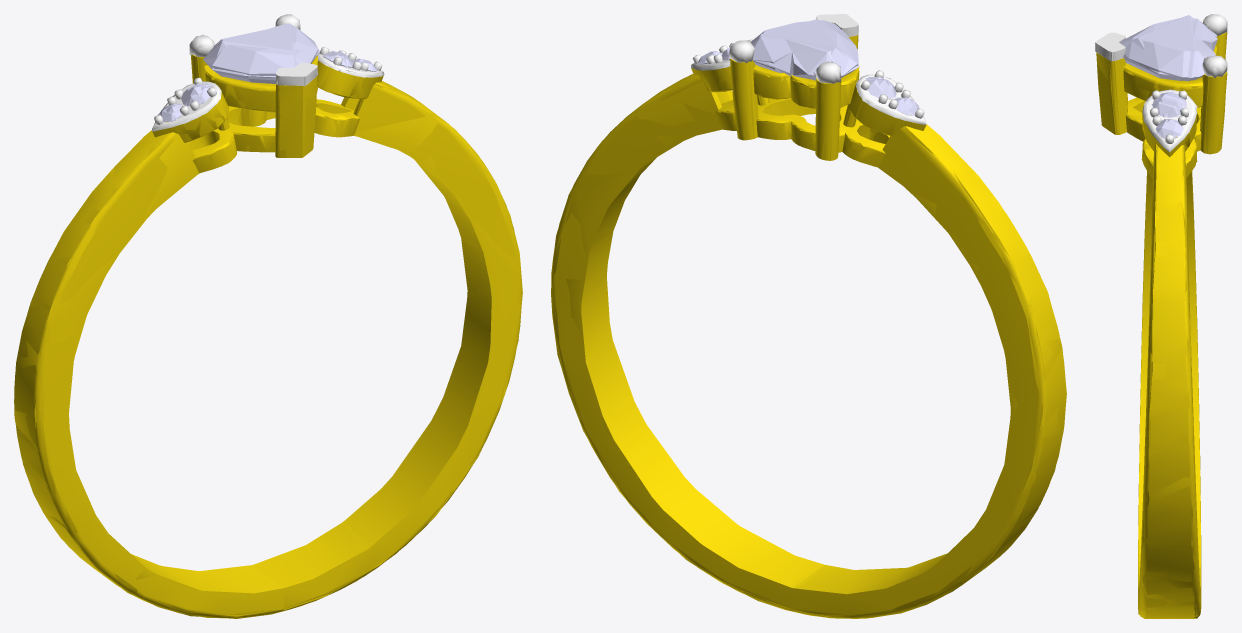
File: DLR-D000609564.glb
The picture shows the model from 3 angles, left to right: view 1: azimuth 30°, elevation 25°; view 2: azimuth 150°, elevation 25°; view 3: azimuth 270°, elevation 25°; orthographic projection.
Visible parts, largest first — view 1: highPolyMesh, lowPolyMesh; view 2: highPolyMesh, lowPolyMesh; view 3: highPolyMesh, lowPolyMesh.
Boxes of the visible parts, x1=… form: highPolyMesh: x1=14, y1=14, x2=521, y2=618; lowPolyMesh: x1=14, y1=14, x2=522, y2=618; highPolyMesh: x1=551, y1=14, x2=1065, y2=618; lowPolyMesh: x1=551, y1=14, x2=1066, y2=618; highPolyMesh: x1=1096, y1=14, x2=1227, y2=618; lowPolyMesh: x1=1095, y1=14, x2=1227, y2=618.
Size of the model in its own units: 0.0196 by 0.0216 by 0.00462.
